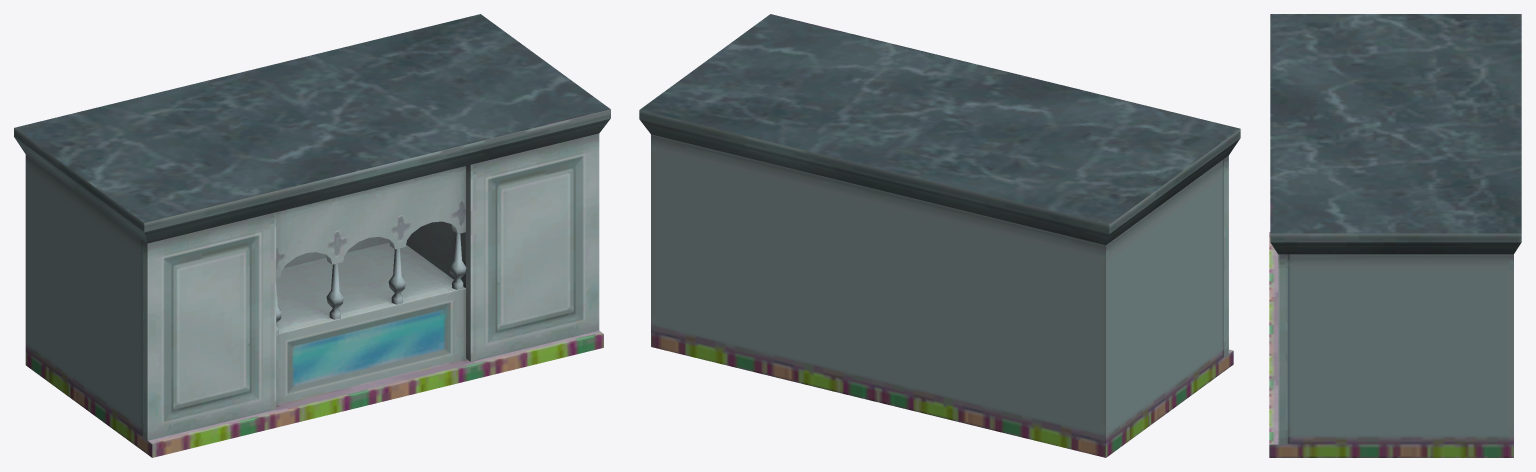
Rendered from furni_0200620_02.FBX.
3 renders of one model, left to right at view 1: azimuth 30°, elevation 25°; view 2: azimuth 150°, elevation 25°; view 3: azimuth 270°, elevation 25°, orthographic. The views are drawn at different scales.
Parts seen in each view (by area): view 1: furni_0200620_02; view 2: furni_0200620_02; view 3: furni_0200620_02.
Boxes of the visible parts, x1=… form: furni_0200620_02: x1=14, y1=14, x2=610, y2=457; furni_0200620_02: x1=639, y1=14, x2=1240, y2=457; furni_0200620_02: x1=1269, y1=14, x2=1521, y2=457.
Bounding box in the file's own units: 165 × 79.79 × 80.04.
1 material, 1 textured.
